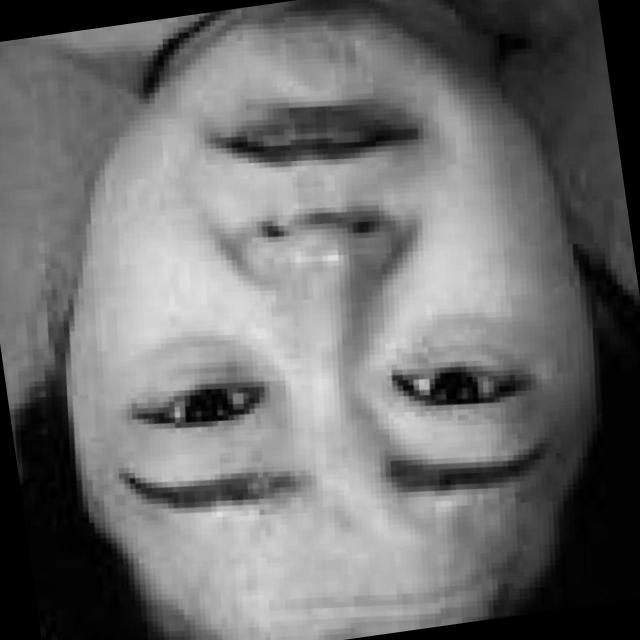sad: (30, 7, 592, 627)
